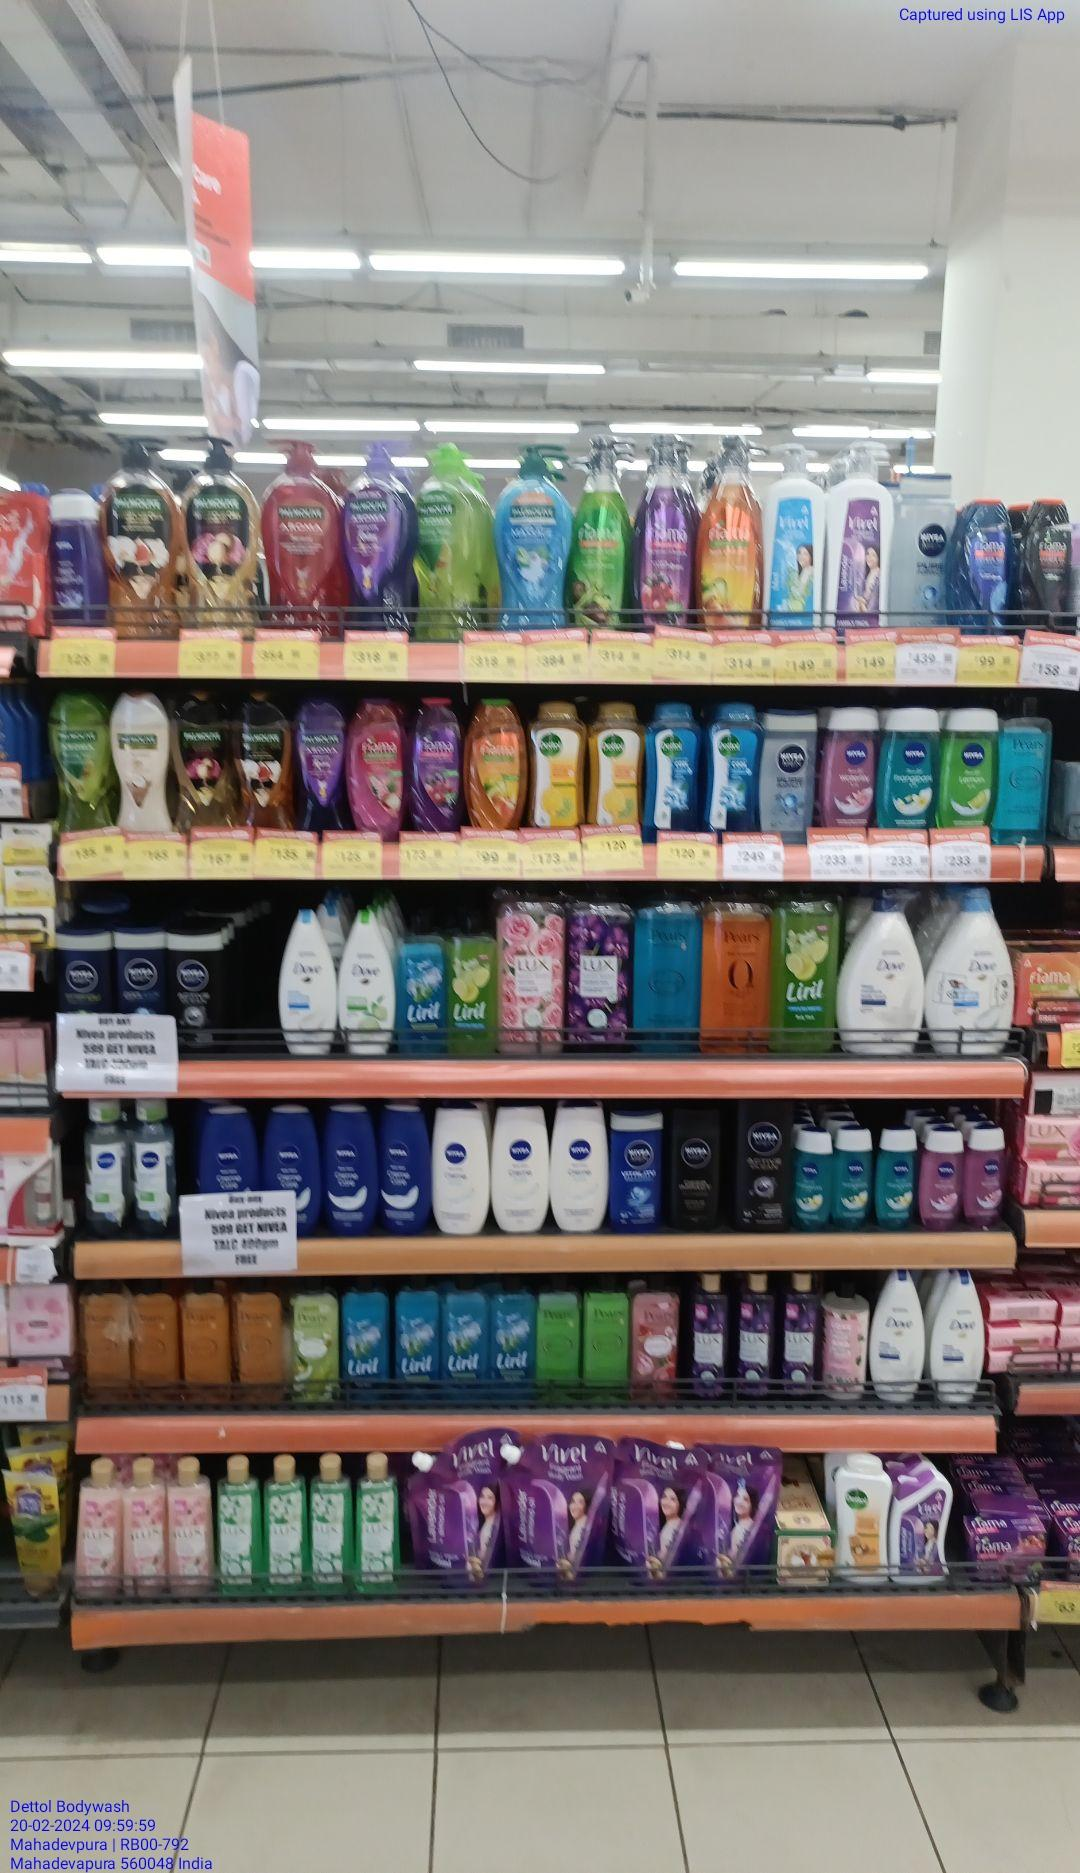Dettol_Bodywash_Cool: (706, 700, 762, 832), (645, 697, 701, 830)
Dettol_Bodywash_Refresh: (528, 699, 586, 827), (593, 697, 643, 825)
Dettol_Nourish_Body_Wash_250ML: (836, 1451, 890, 1582)
Dove_Deep_Moisture_Body_Wash_250ML: (872, 1261, 927, 1403), (931, 1263, 985, 1407)
Dove_Gentle_Exfoliating_Body_Wash_250ML: (275, 907, 332, 1051)
Dove_Refreshing_Body_Wash_250ML: (337, 906, 391, 1054)
Fiama_Shower_Gel_Patchouli_and_Macadamia_250ML: (346, 693, 405, 827)
Fiama_Shower_Gel_Peach_and_Avocado_250ML: (463, 693, 527, 826)
Liril_Cooling_Mint_Body_Wash_250ML: (395, 907, 445, 1052), (339, 1275, 388, 1398), (392, 1275, 438, 1396), (490, 1275, 535, 1387), (442, 1274, 485, 1392)
Liril_Lime_and_Tea_Tree_Oil_Body_Wash_250ML: (447, 909, 495, 1059)
Lux_Black_Orchid_Scent_and_Juniper_Oil_Body_Wash_245ML: (778, 1271, 818, 1402), (690, 1270, 728, 1403), (738, 1274, 773, 1405)
Lux_Body_Wash_Skin_Detox_Freesia_Scent_and_Alove_Vera_245ML: (355, 1454, 401, 1591), (217, 1451, 258, 1600), (261, 1452, 306, 1587), (311, 1452, 350, 1595)
Nivea_Creme_Care_Body_Wash_250ML: (324, 1101, 378, 1238), (382, 1092, 431, 1234), (195, 1110, 262, 1194), (265, 1099, 321, 1190)
Nivea_Creme_Soft_Body_Wash_250ML: (490, 1100, 548, 1234), (553, 1101, 608, 1231), (435, 1099, 487, 1232)
Nivea_Shower_Gel_Frangipani_and_Oil_250ML: (879, 706, 940, 828)
Nivea_Shower_Gel_Fresh_Powerfruit_250ML: (49, 494, 107, 628)
Nivea_Shower_Gel_Lemon_and_Oil_250ML: (944, 702, 999, 830)
Nivea_Shower_Gel_Waterlily_and_Oil_250ML: (820, 705, 876, 825)
Palmolive_Aroma_Morning_Tonic_Shower_Gel_250ML: (48, 693, 112, 832)
Palmolive_Luminous_Oils_Invigorating_Macadamia_Oil_With_Peony_250ML: (172, 688, 240, 828)
Palmolive_Luminous_Oils_With_White_Orchid_Shower_Gel_250ML: (244, 686, 294, 831)
Pears_Naturale_Aloe_Vera_Body_Wash_250ML: (288, 1280, 336, 1412)
Pears_Pure_Glycerin_and_Lemon_Flower_Extracts_Body_Wash_250ML: (584, 1272, 627, 1396), (537, 1275, 581, 1388)
Pears_Pure_Glycerin_and_Mint_Extracts_Body_Wash_250ML: (1004, 687, 1053, 843)
